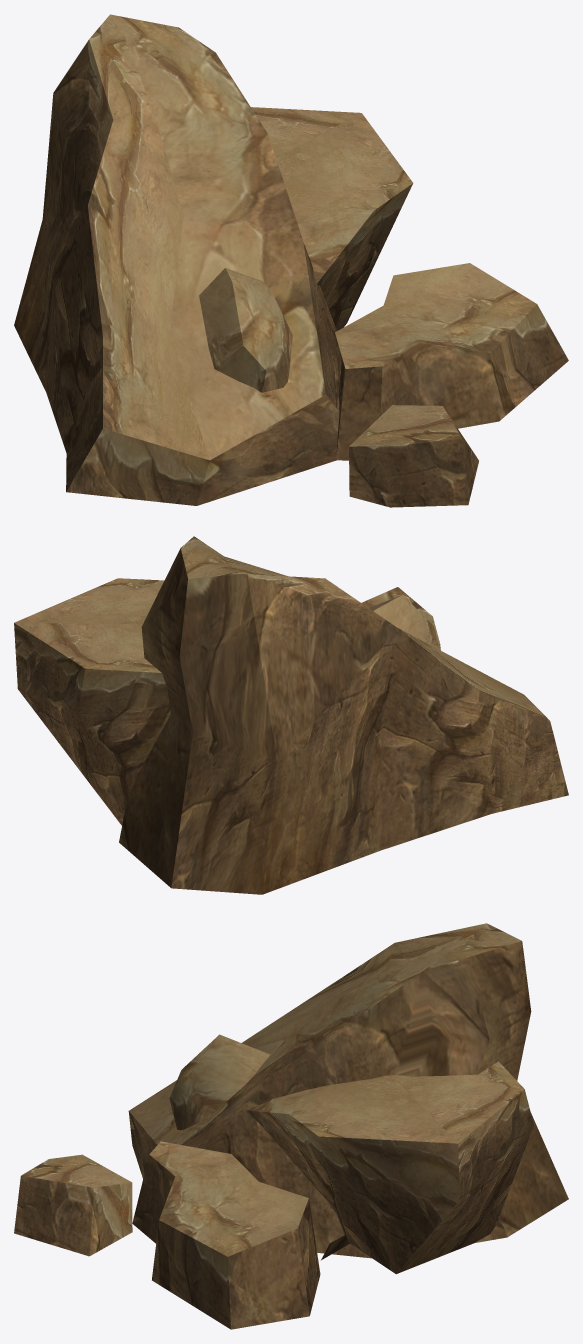
The model's file is yw_huxiaoshamo_shitou03.FBX.
3 renders of one model, top to bottom at view 1: azimuth 30°, elevation 25°; view 2: azimuth 150°, elevation 25°; view 3: azimuth 270°, elevation 25°, orthographic. The views are drawn at different scales.
Visible parts, largest first — view 1: yw_huxiaoshamo_shitou03; view 2: yw_huxiaoshamo_shitou03; view 3: yw_huxiaoshamo_shitou03.
Part boxes in pixels (x1,y1,x2,y2): yw_huxiaoshamo_shitou03: [14, 14, 568, 507]; yw_huxiaoshamo_shitou03: [14, 536, 568, 894]; yw_huxiaoshamo_shitou03: [14, 923, 568, 1329].
Size of the model in its own units: 922 by 512 by 981.
